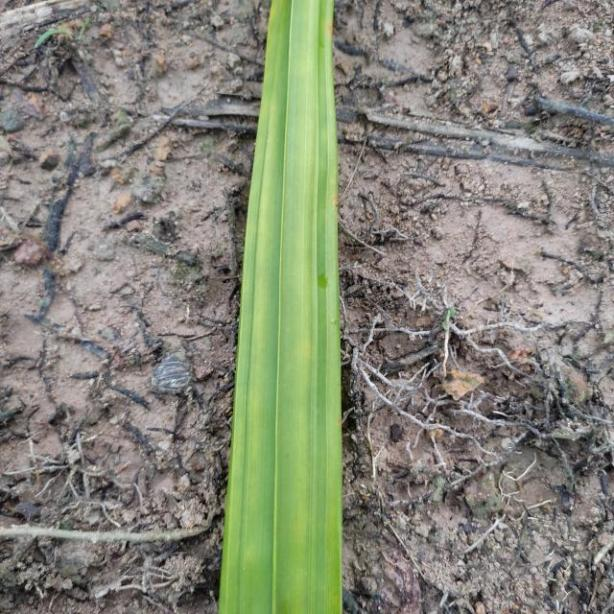nitrogen: (213, 0, 342, 614)
